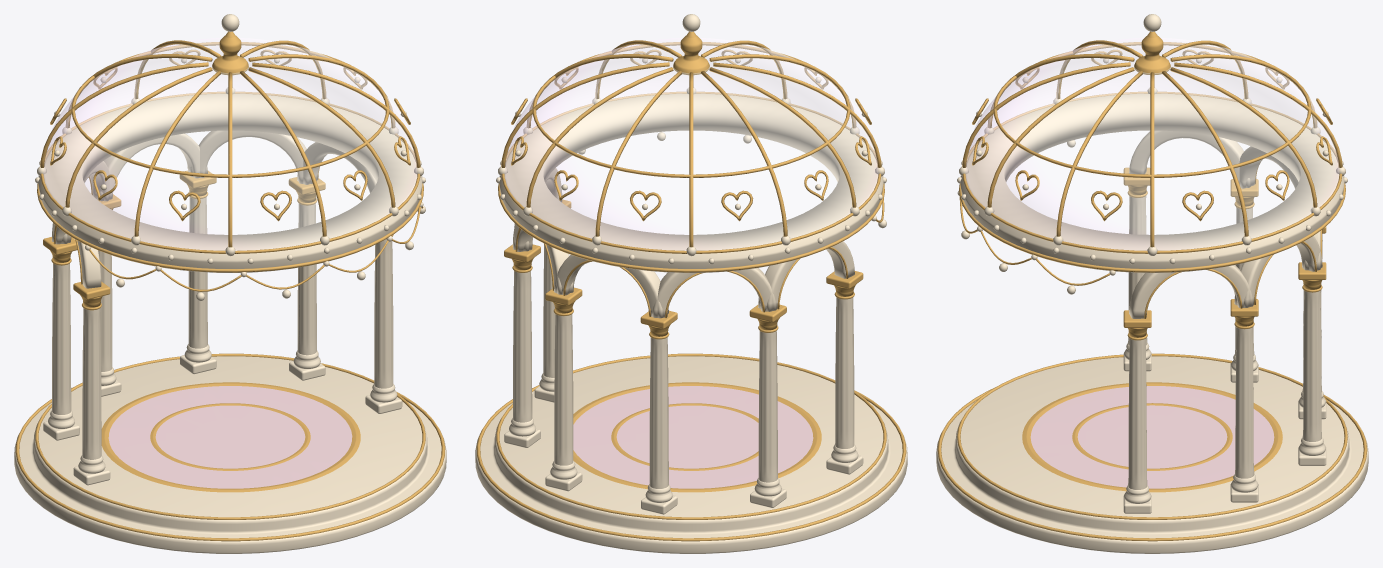
Rendered from pearl-pavilion-horseshoe.glb.
3 renders of one model, left to right at view 1: azimuth 30°, elevation 25°; view 2: azimuth 150°, elevation 25°; view 3: azimuth 270°, elevation 25°, orthographic.
Parts seen in each view (by area): view 1: PearlPavilionHorseshoe; view 2: PearlPavilionHorseshoe; view 3: PearlPavilionHorseshoe.
Boxes of the visible parts, x1=… form: PearlPavilionHorseshoe: x1=14, y1=14, x2=446, y2=553; PearlPavilionHorseshoe: x1=475, y1=14, x2=907, y2=553; PearlPavilionHorseshoe: x1=936, y1=14, x2=1368, y2=553.
Bounding box in the file's own units: 6.7 × 7.66 × 6.7.
